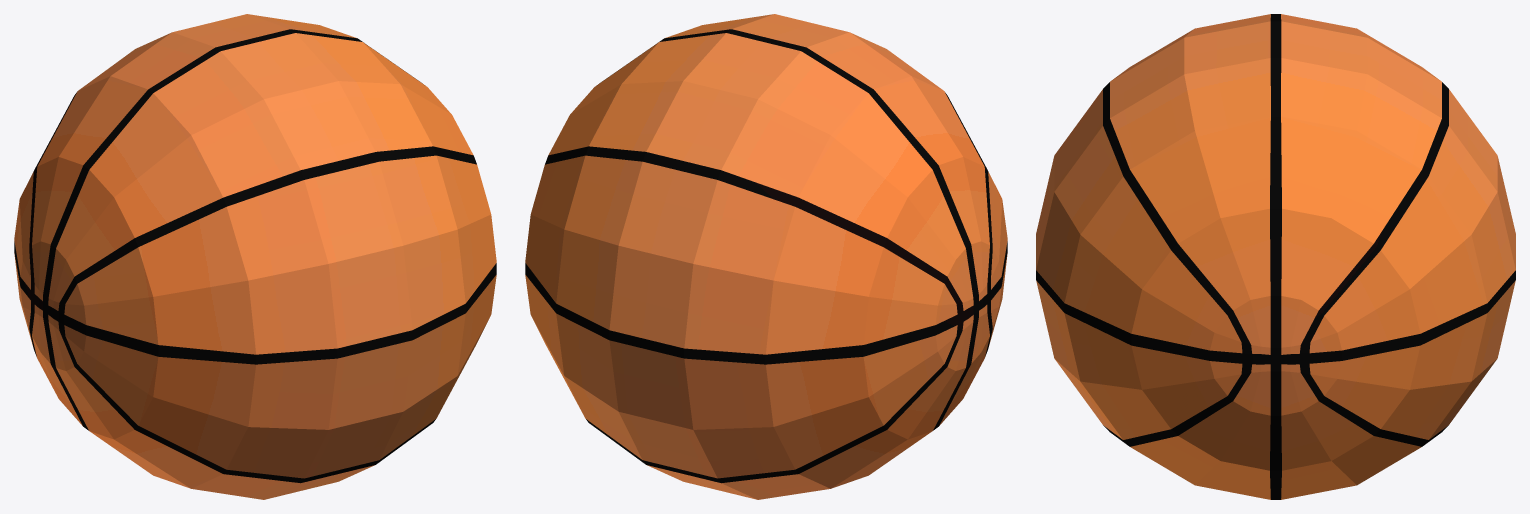
The model's file is Basketball.obj.
3 views of the same model, side by side, from view 1: azimuth 30°, elevation 25°; view 2: azimuth 150°, elevation 25°; view 3: azimuth 270°, elevation 25° (orthographic).
Parts seen in each view (by area): view 1: Sphere; view 2: Sphere; view 3: Sphere.
Part boxes in pixels (x1,y1,x2,y2): Sphere: [14, 14, 496, 499]; Sphere: [525, 14, 1007, 499]; Sphere: [1036, 14, 1515, 499].
Size of the model in its own units: 1.11 by 1.09 by 1.09.
1 material, 1 textured.
